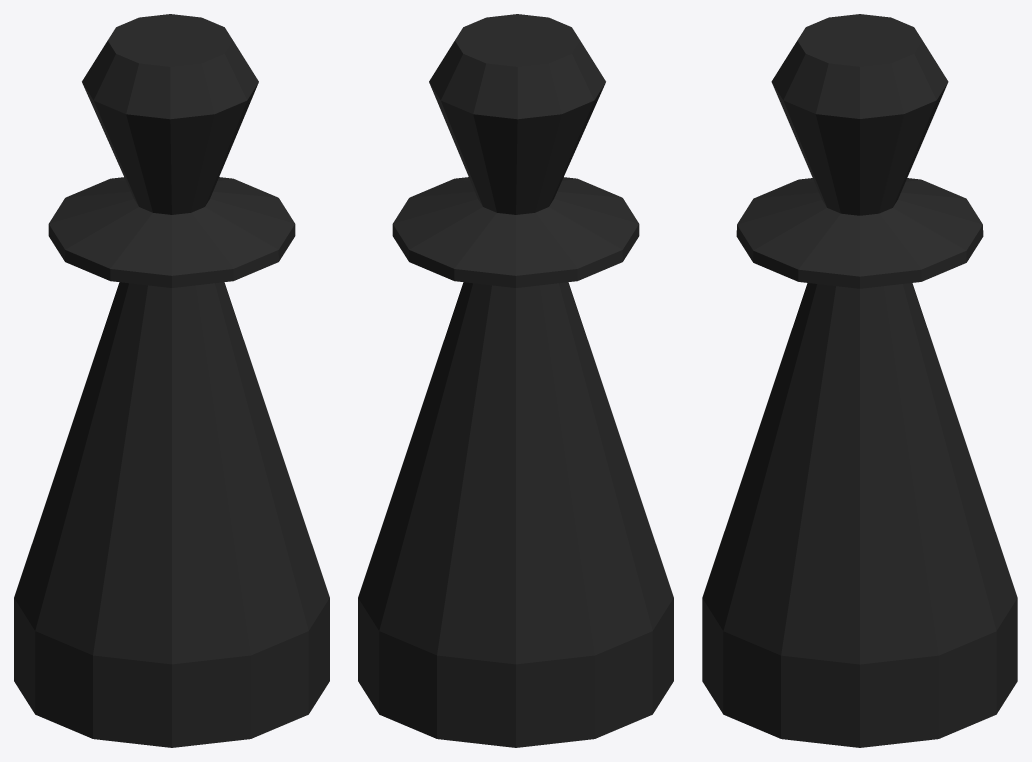
File: chessQueen.glb
The picture shows the model from 3 angles, left to right: view 1: azimuth 30°, elevation 25°; view 2: azimuth 150°, elevation 25°; view 3: azimuth 270°, elevation 25°; orthographic projection.
Visible parts, largest first — view 1: ChessQueen; view 2: ChessQueen; view 3: ChessQueen.
Boxes of the visible parts, left/top/right/bottom form: ChessQueen: left=14, top=14, right=329, bottom=747; ChessQueen: left=358, top=14, right=673, bottom=747; ChessQueen: left=702, top=14, right=1017, bottom=747.
Size of the model in its own units: 0.0416 by 0.0932 by 0.0416.
Materials: 1 (1 with a texture image).
